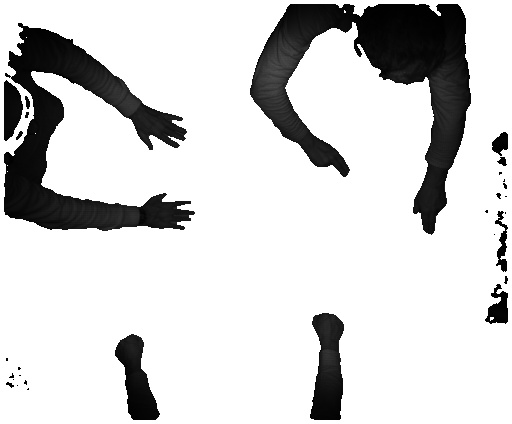fist: (112, 328, 143, 368), (312, 312, 343, 346)
hand: (136, 109, 191, 151), (408, 182, 447, 239), (144, 192, 199, 231), (304, 141, 351, 183)
